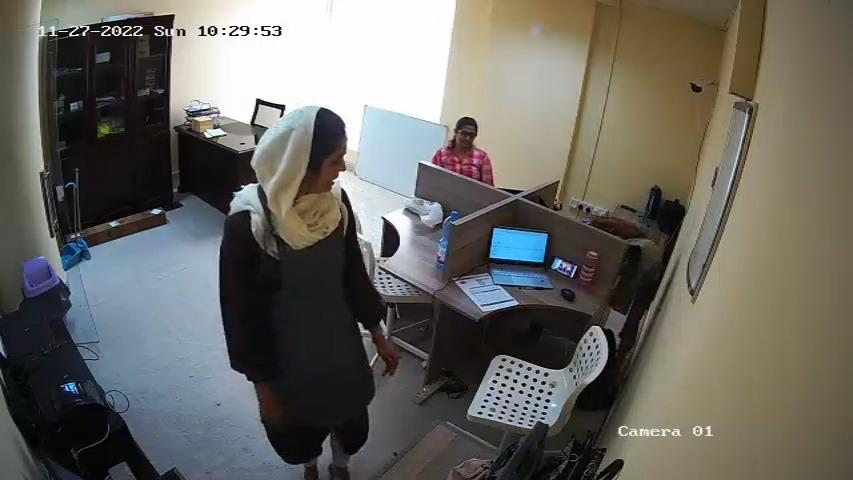apron: (247, 183, 357, 371)
